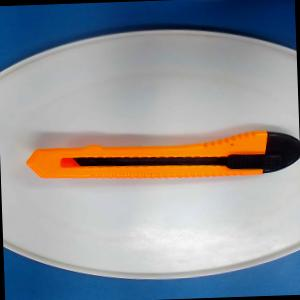estilete: (25, 128, 300, 183)
